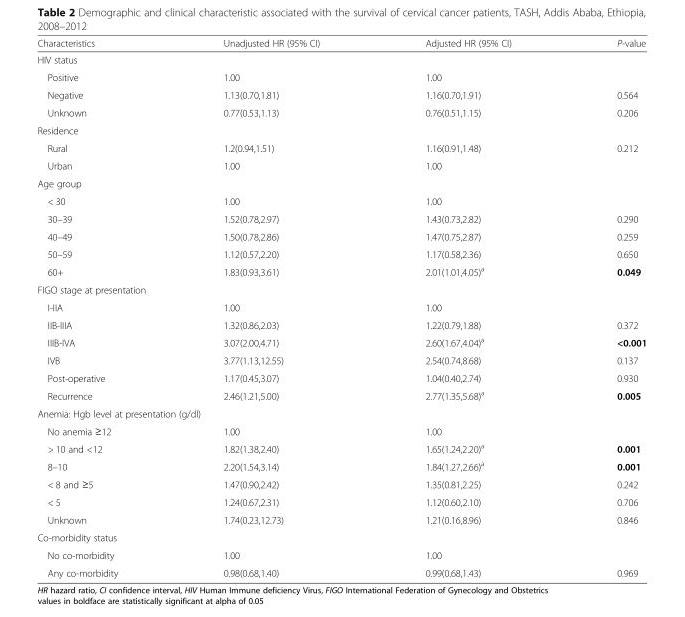table: (36, 37, 646, 578)
table column: (170, 37, 371, 578), (371, 37, 563, 578), (36, 37, 170, 578), (563, 37, 646, 578)
table column header: (36, 37, 646, 50)
table projected row header: (36, 50, 646, 68), (36, 174, 646, 192), (36, 280, 646, 298), (36, 528, 646, 546), (36, 121, 646, 138), (36, 404, 646, 421)
table row: (36, 332, 646, 351), (36, 385, 646, 404), (36, 456, 646, 475), (36, 50, 646, 68), (36, 85, 646, 103), (36, 103, 646, 121), (36, 138, 646, 156), (36, 156, 646, 174), (36, 174, 646, 192), (36, 209, 646, 227), (36, 227, 646, 245), (36, 262, 646, 280), (36, 280, 646, 298), (36, 351, 646, 369), (36, 421, 646, 439), (36, 492, 646, 510), (36, 510, 646, 528), (36, 528, 646, 546), (36, 68, 646, 85), (36, 121, 646, 138), (36, 192, 646, 209), (36, 245, 646, 262), (36, 298, 646, 315), (36, 315, 646, 332), (36, 404, 646, 421), (36, 439, 646, 456), (36, 475, 646, 492), (36, 546, 646, 563), (36, 369, 646, 385), (36, 563, 646, 578), (36, 37, 646, 50)
